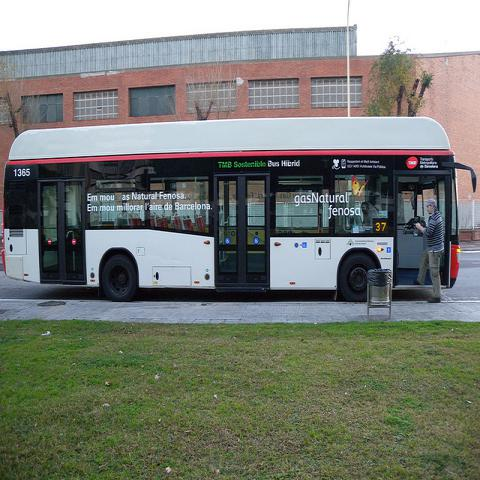bus: (6, 116, 461, 302)
